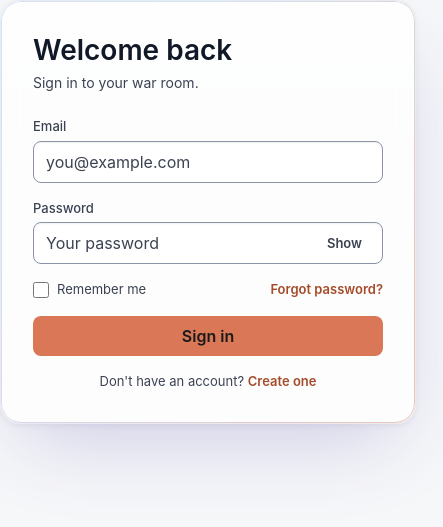
AuthForm › blocks submit and explains when both fields are empty
Click the button "Sign in".
click(208, 336)  # box [33,316,383,356]
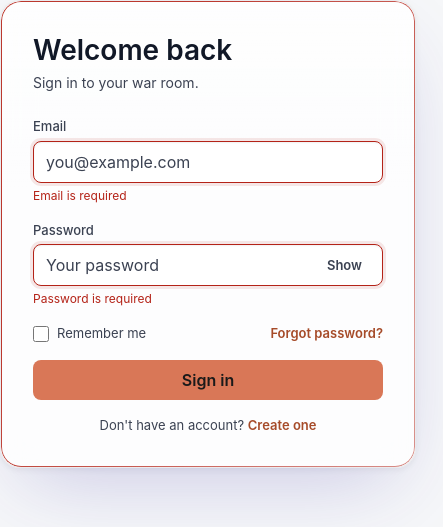
Expected: the text "Email is required" is shown, [33,188,127,202]
Expected: the text "Password is required" is shown, [33,291,152,306]
